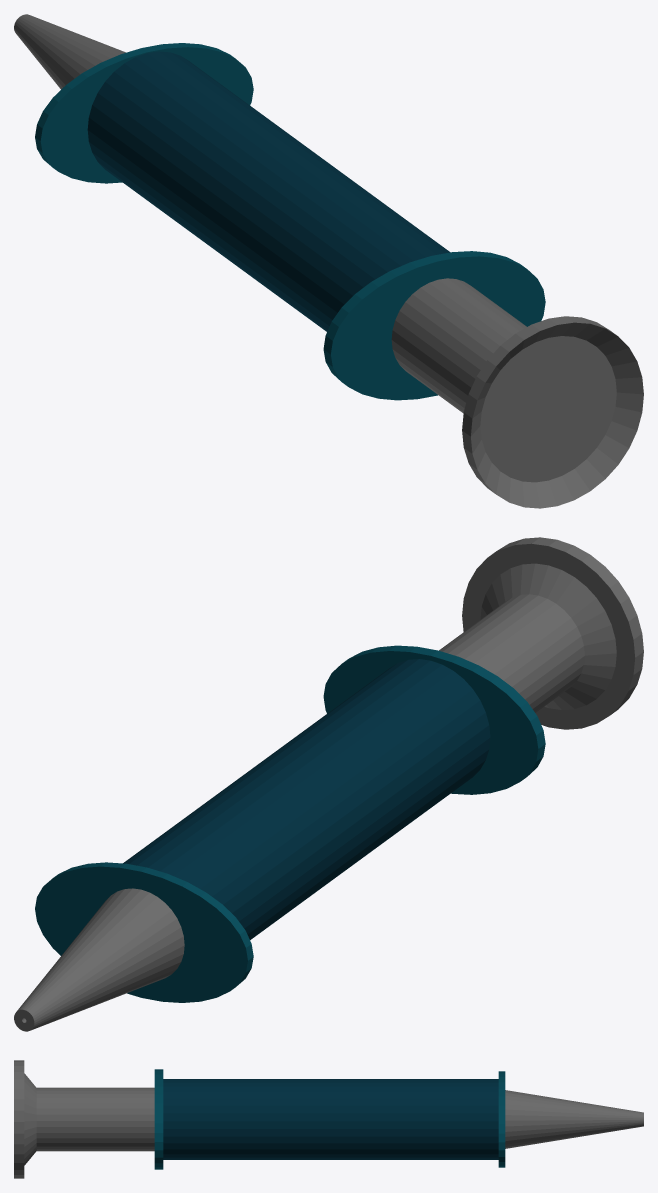
File: Thermal paste.glb
The picture shows the model from 3 angles, top to bottom: view 1: azimuth 30°, elevation 25°; view 2: azimuth 150°, elevation 25°; view 3: azimuth 270°, elevation 25°; orthographic projection. The views are drawn at different scales.
Parts seen in each view (by area): view 1: Thermal paste; view 2: Thermal paste; view 3: Thermal paste.
Boxes of the visible parts, x1,y1,x2,y2 form: Thermal paste: (14, 14, 643, 508); Thermal paste: (14, 537, 643, 1031); Thermal paste: (14, 1060, 643, 1178).
Size of the model in its own units: 0.8468 by 0.6825 by 3.64.
